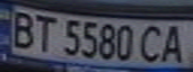0: (115, 23, 139, 62)
5: (57, 17, 84, 57), (78, 19, 100, 60)
8: (97, 20, 118, 61)
A: (157, 22, 190, 64)
B: (3, 8, 39, 50)
C: (136, 22, 166, 63)
T: (30, 12, 60, 53)
